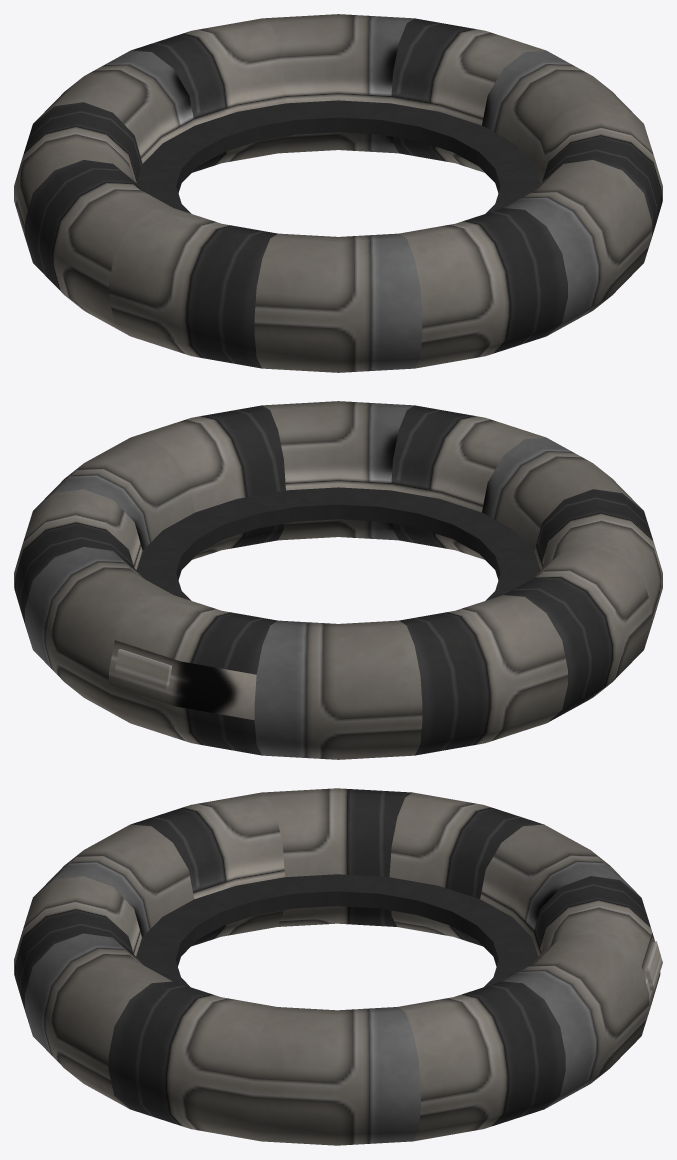
The model's file is avionics.fbx.
3 views of the same model, one above another, from view 1: azimuth 30°, elevation 25°; view 2: azimuth 150°, elevation 25°; view 3: azimuth 270°, elevation 25° (orthographic).
Parts seen in each view (by area): view 1: mesh; view 2: mesh; view 3: mesh.
Part boxes in pixels (box(x1,y1,x2,y2)): mesh: box(14, 14, 662, 372); mesh: box(14, 401, 662, 759); mesh: box(14, 788, 662, 1145).
Size of what is drawn, in the model's own units: 2 by 0.425 by 2.01.
